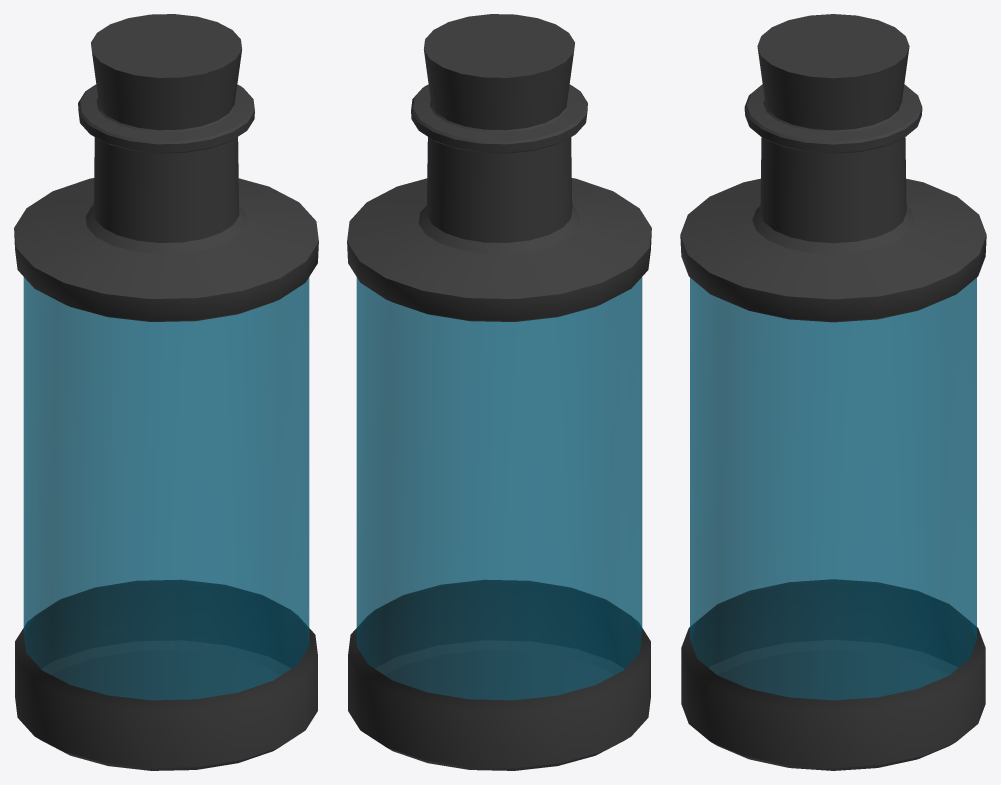
File: WideBlueBottle.fbx
The picture shows the model from 3 angles, left to right: view 1: azimuth 30°, elevation 25°; view 2: azimuth 150°, elevation 25°; view 3: azimuth 270°, elevation 25°; orthographic projection.
Parts seen in each view (by area): view 1: Bottle3; view 2: Bottle3; view 3: Bottle3.
Part boxes in pixels (x1,y1,x2,y2): Bottle3: (14, 14, 318, 770); Bottle3: (347, 14, 651, 770); Bottle3: (680, 14, 986, 770).
Bounding box in the file's own units: 1.23 × 2.94 × 1.23.
